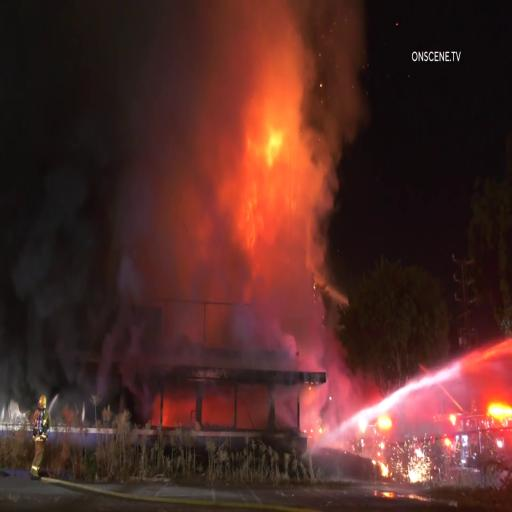fire: (254, 98, 296, 191)
smoke: (8, 1, 231, 352), (0, 138, 105, 394), (105, 210, 201, 405)
